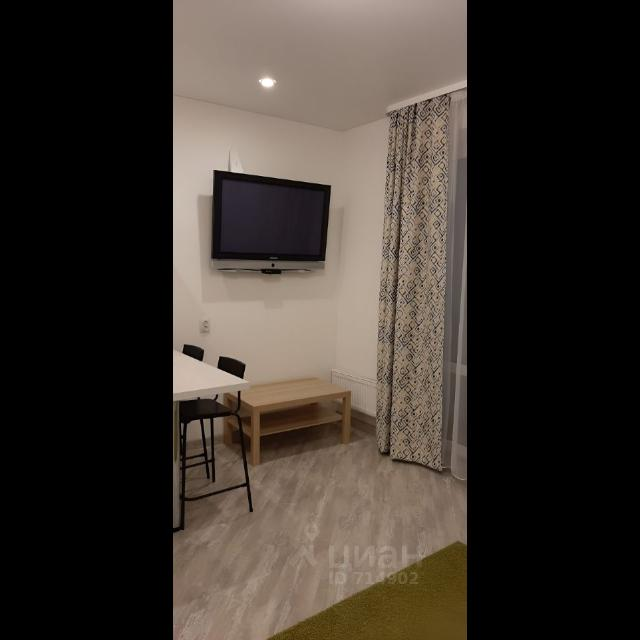Flat-Panel-TV: (208, 171, 330, 271)
